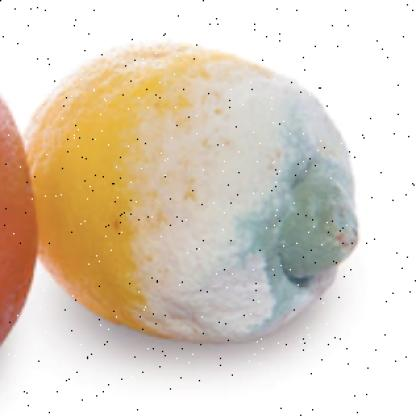rotten: (13, 48, 360, 349)
